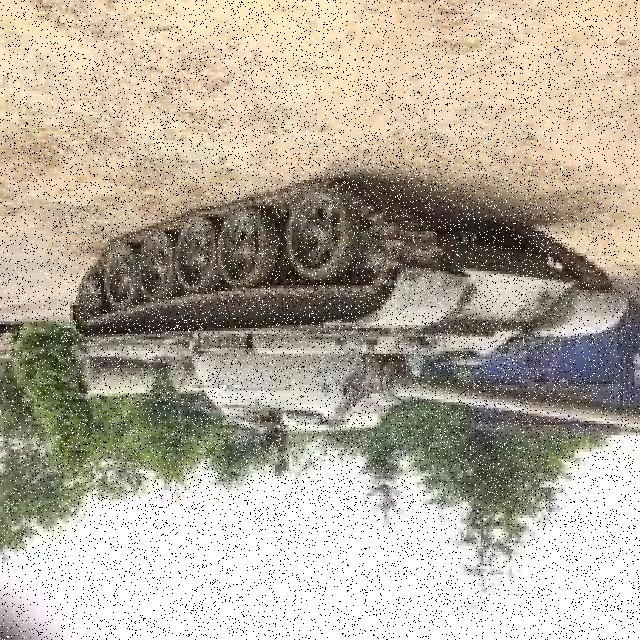MIL_MBT: (60, 51, 571, 508)
